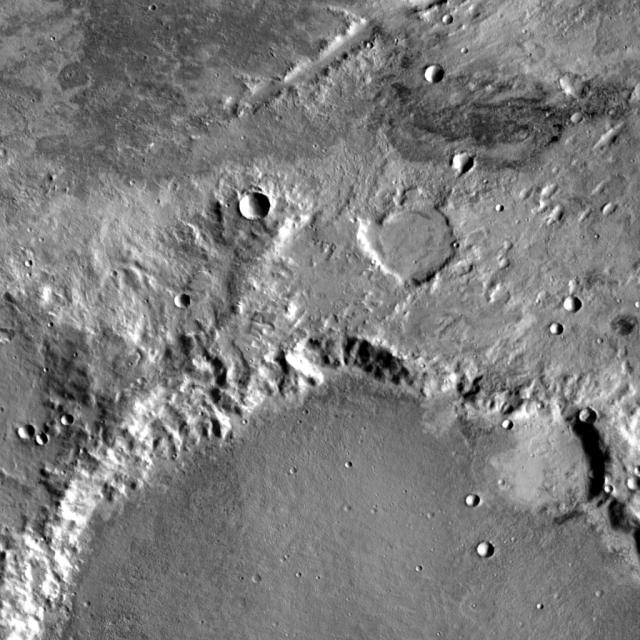crater: (484, 404, 606, 514), (360, 204, 450, 286), (456, 592, 492, 624), (233, 193, 266, 223), (555, 73, 581, 97), (446, 156, 468, 176), (419, 67, 439, 85), (405, 0, 427, 15), (573, 408, 591, 426), (558, 298, 576, 314), (600, 202, 618, 218), (486, 291, 504, 307), (450, 261, 468, 277), (471, 544, 488, 560), (11, 427, 29, 442), (622, 476, 640, 490), (168, 296, 184, 310), (542, 212, 558, 226), (586, 182, 602, 196), (596, 131, 612, 145), (536, 187, 552, 200), (460, 496, 475, 509), (544, 324, 558, 337), (564, 280, 578, 292), (462, 8, 476, 20), (54, 416, 67, 428), (566, 111, 578, 123), (29, 437, 41, 448), (514, 192, 526, 202), (574, 210, 586, 220), (438, 17, 448, 27), (497, 423, 507, 433), (494, 262, 504, 272), (532, 204, 542, 214), (588, 143, 598, 153), (162, 184, 172, 193), (247, 577, 257, 585), (498, 244, 508, 252), (490, 206, 498, 214), (629, 466, 637, 474), (532, 404, 540, 412), (600, 487, 608, 494), (546, 167, 554, 174), (140, 372, 148, 379), (418, 559, 426, 566), (590, 592, 598, 599), (346, 456, 354, 462), (24, 256, 31, 262), (151, 0, 158, 6), (422, 514, 429, 520), (462, 44, 468, 50), (639, 296, 640, 302)
